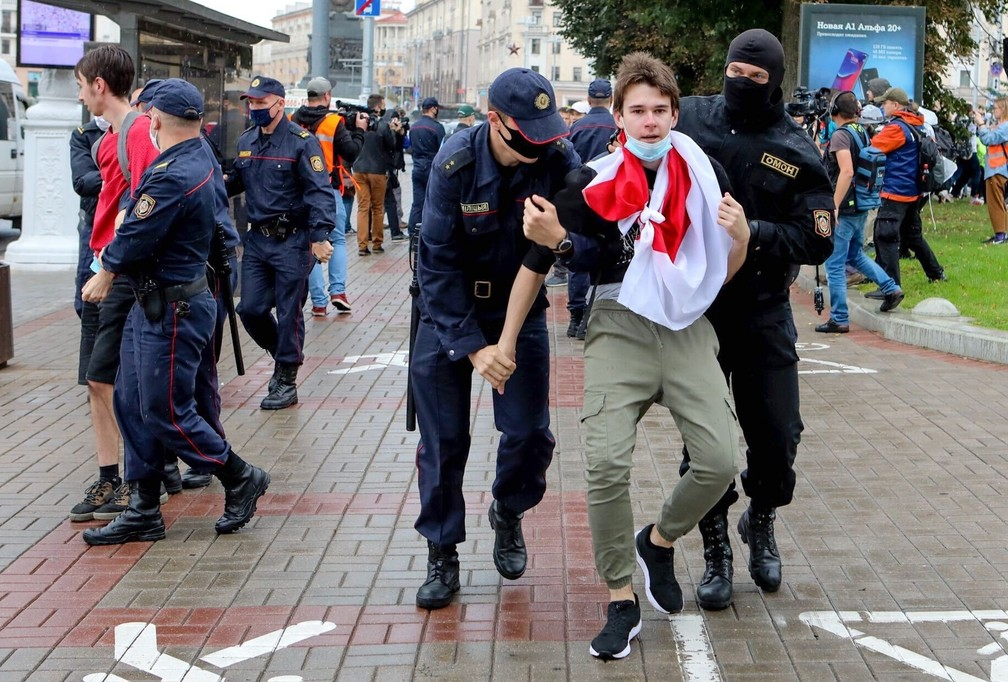mask_weared_incorrect: (609, 85, 682, 164)
